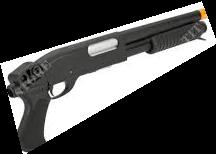gun: (0, 1, 216, 154)
